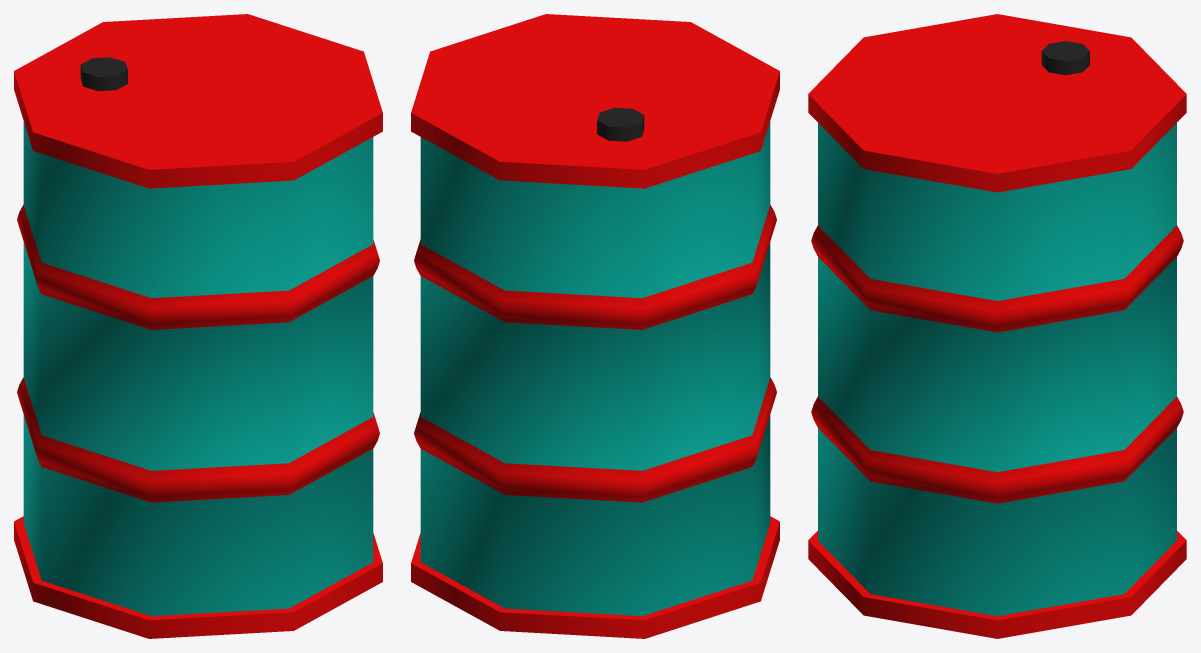
The model's file is Barrel.fbx.
3 views of the same model, side by side, from view 1: azimuth 30°, elevation 25°; view 2: azimuth 150°, elevation 25°; view 3: azimuth 270°, elevation 25° (orthographic).
Visible parts, largest first — view 1: Barrel; view 2: Barrel; view 3: Barrel.
Boxes of the visible parts, x1,y1,x2,y2 form: Barrel: (14,14,382,638); Barrel: (411,14,779,638); Barrel: (808,14,1186,638).
Size of the model in its own units: 29.05 by 40.55 by 29.05.
